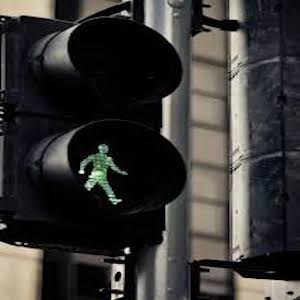green: (75, 141, 135, 208)
